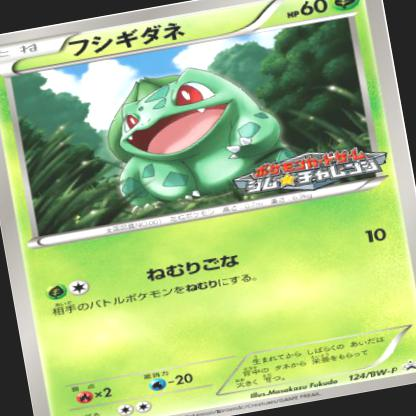Bulbasaur: (92, 51, 294, 220)
